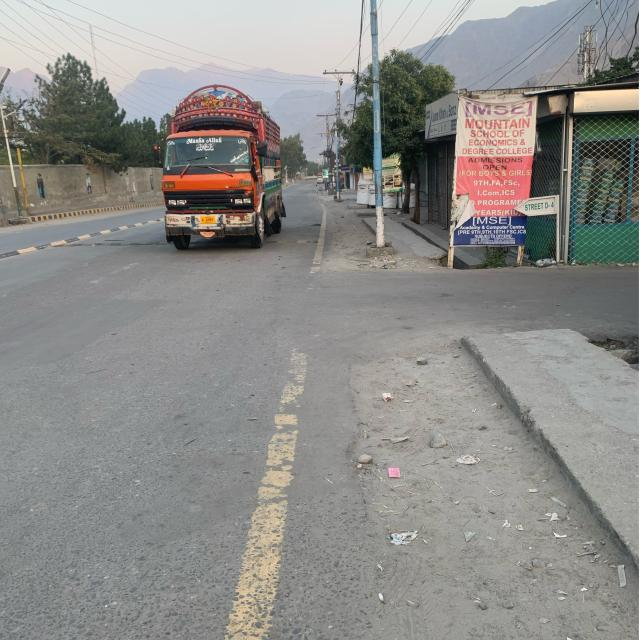Right-Turn: (159, 270, 461, 510)
straight: (13, 208, 149, 500)
